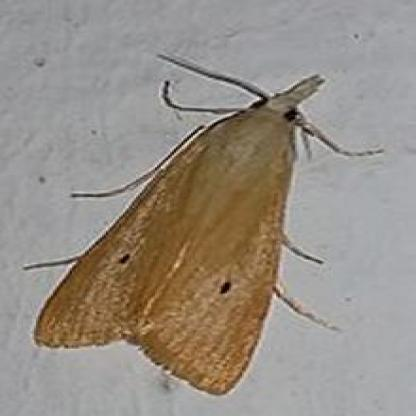stem-borer: (20, 49, 390, 396)
